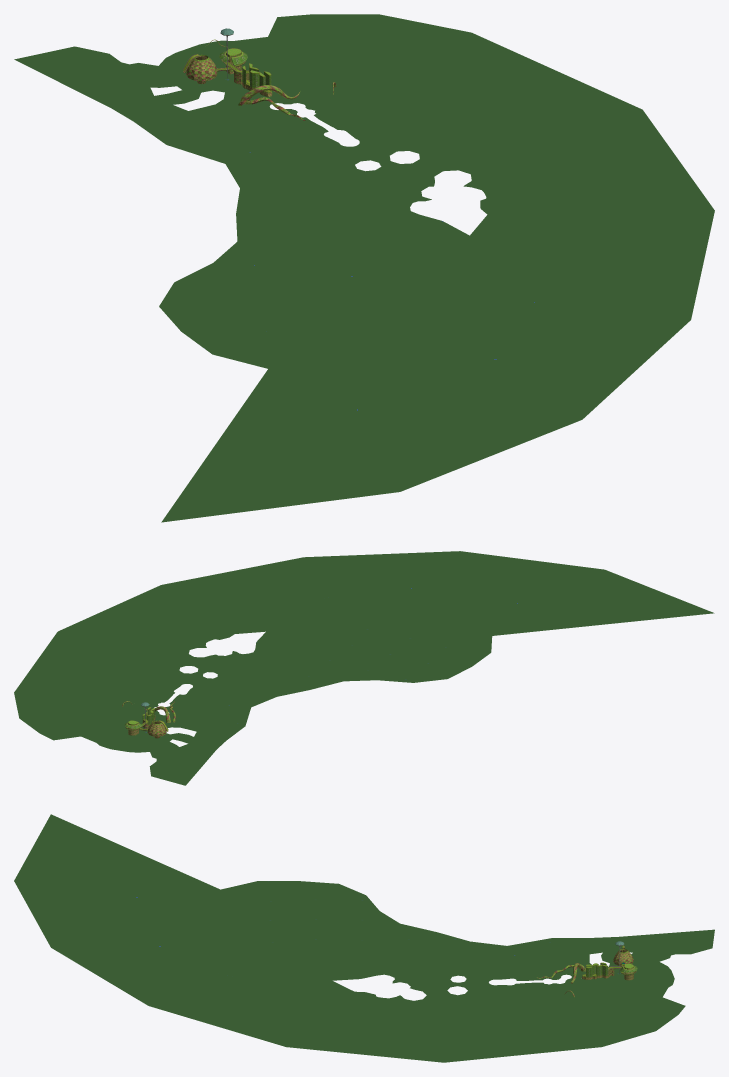
The model's file is Lost Jungle 5.obj.
The picture shows the model from 3 angles, top to bottom: view 1: azimuth 30°, elevation 25°; view 2: azimuth 150°, elevation 25°; view 3: azimuth 270°, elevation 25°; orthographic projection. The views are drawn at different scales.
Visible parts, largest first — view 1: Object_2.001; view 2: Object_2.001; view 3: Object_2.001.
Part boxes in pixels (<box>): Object_2.001: <box>14,14,714,522</box>; Object_2.001: <box>14,551,714,785</box>; Object_2.001: <box>14,814,714,1062</box>.
Size of the model in its own units: 17366 by 1130 by 20702.
31 materials, 31 textured.
